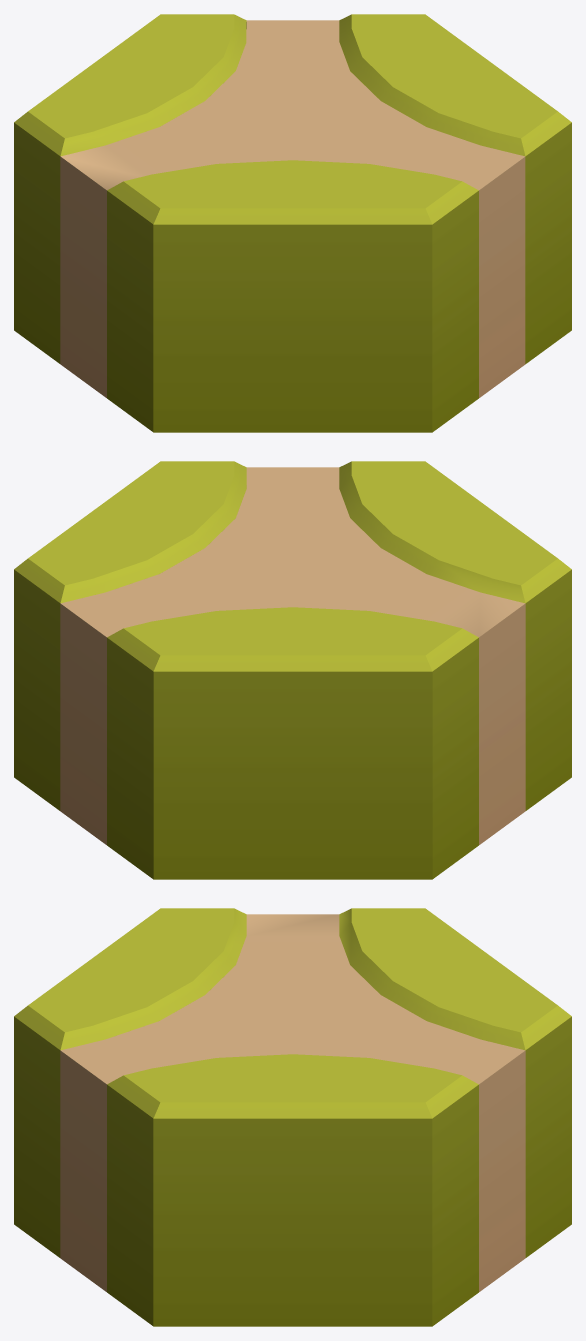
The model's file is kaykit-medieval-hexagon-pack-hex-road-d.glb.
3 views of the same model, one above another, from view 1: azimuth 30°, elevation 25°; view 2: azimuth 150°, elevation 25°; view 3: azimuth 270°, elevation 25° (orthographic).
Visible parts, largest first — view 1: hex_road_D; view 2: hex_road_D; view 3: hex_road_D.
Boxes of the visible parts, x1=… form: hex_road_D: x1=14, y1=14, x2=571, y2=432; hex_road_D: x1=14, y1=461, x2=571, y2=879; hex_road_D: x1=14, y1=908, x2=571, y2=1326.
Size of the model in its own units: 2 by 1 by 2.31.
Materials: 1 (1 with a texture image).
